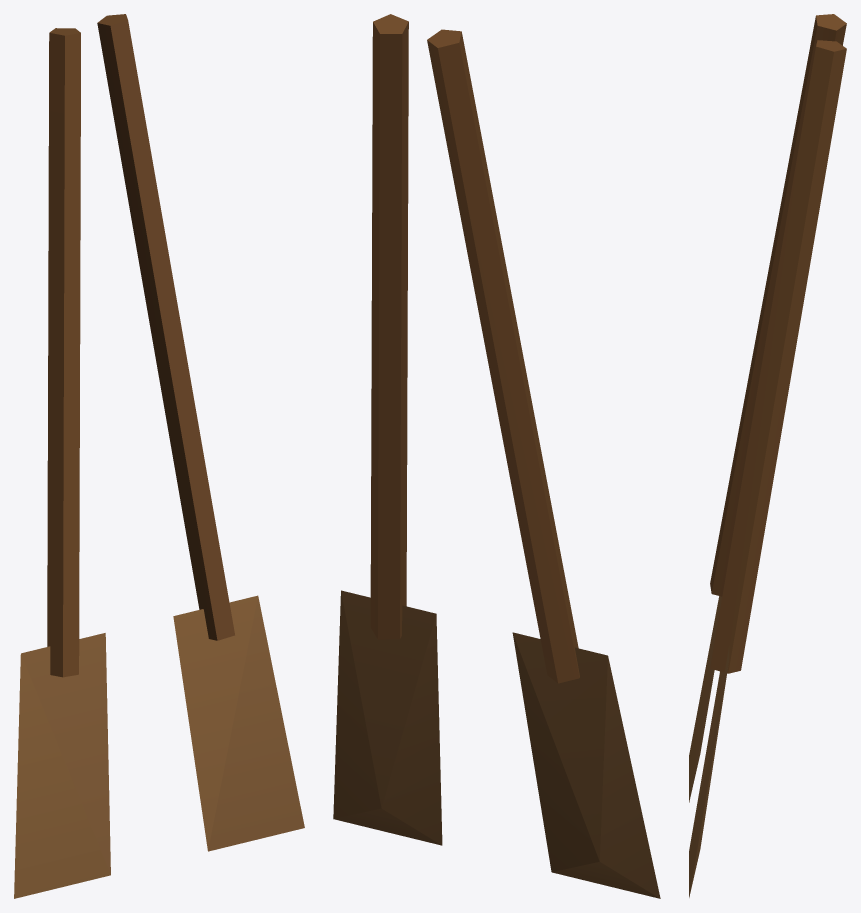
File: oars.glb
3 renders of one model, left to right at view 1: azimuth 30°, elevation 25°; view 2: azimuth 150°, elevation 25°; view 3: azimuth 270°, elevation 25°, orthographic. The views are drawn at different scales.
Visible parts, largest first — view 1: base; view 2: base; view 3: base.
Boxes of the visible parts, left/top/right/bottom form: base: left=14, top=14, right=304, bottom=898; base: left=333, top=14, right=660, bottom=898; base: left=689, top=14, right=846, bottom=897.
Bounding box in the file's own units: 0.24 × 0.6222 × 0.1118.
